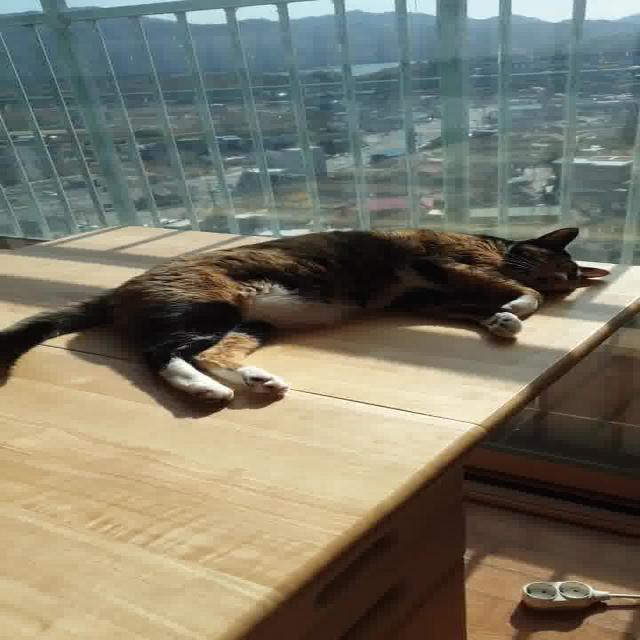cat: (0, 224, 614, 406)
